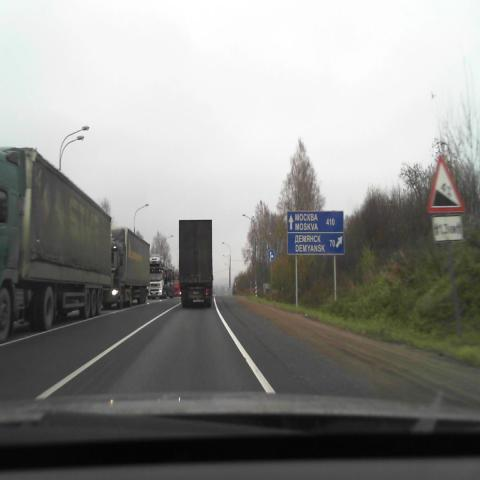1_13: (426, 154, 466, 212)
8_2_1: (432, 215, 464, 242)
